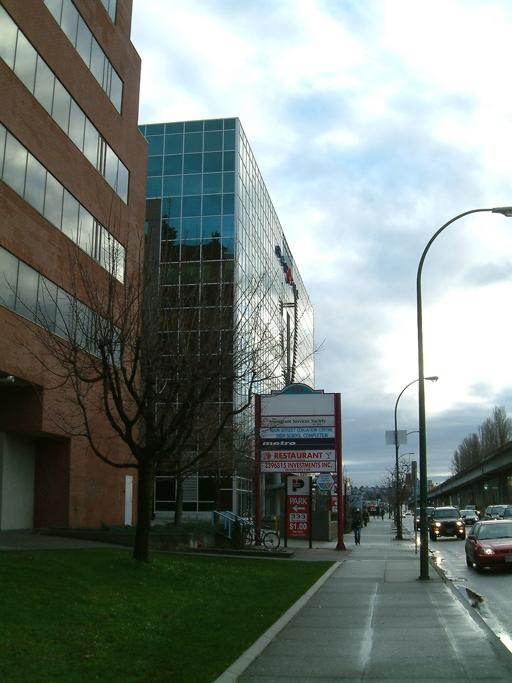non-vehicle: (242, 523, 279, 549), (353, 524, 360, 544)
